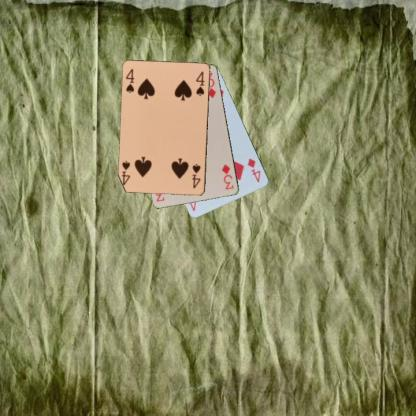3d: (219, 162, 235, 190)
4d: (245, 156, 262, 184)
4s: (123, 66, 136, 95), (190, 161, 202, 190)
